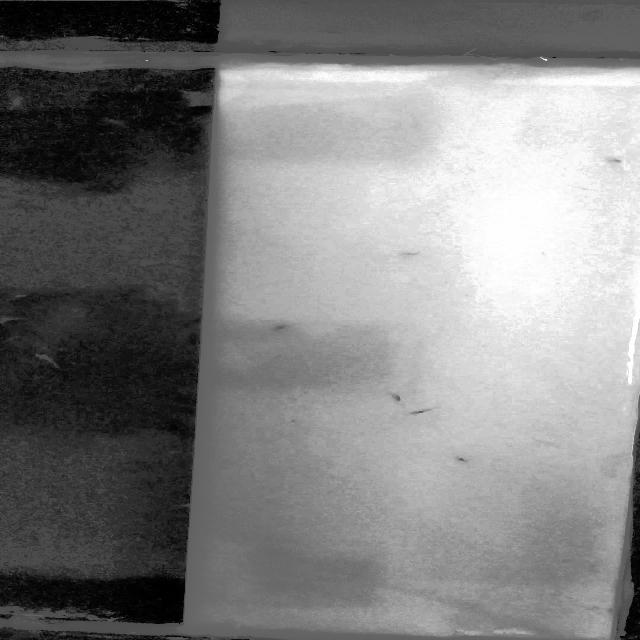shrimp: (374, 389, 414, 407), (403, 405, 450, 420), (266, 316, 299, 336), (446, 451, 477, 466)
